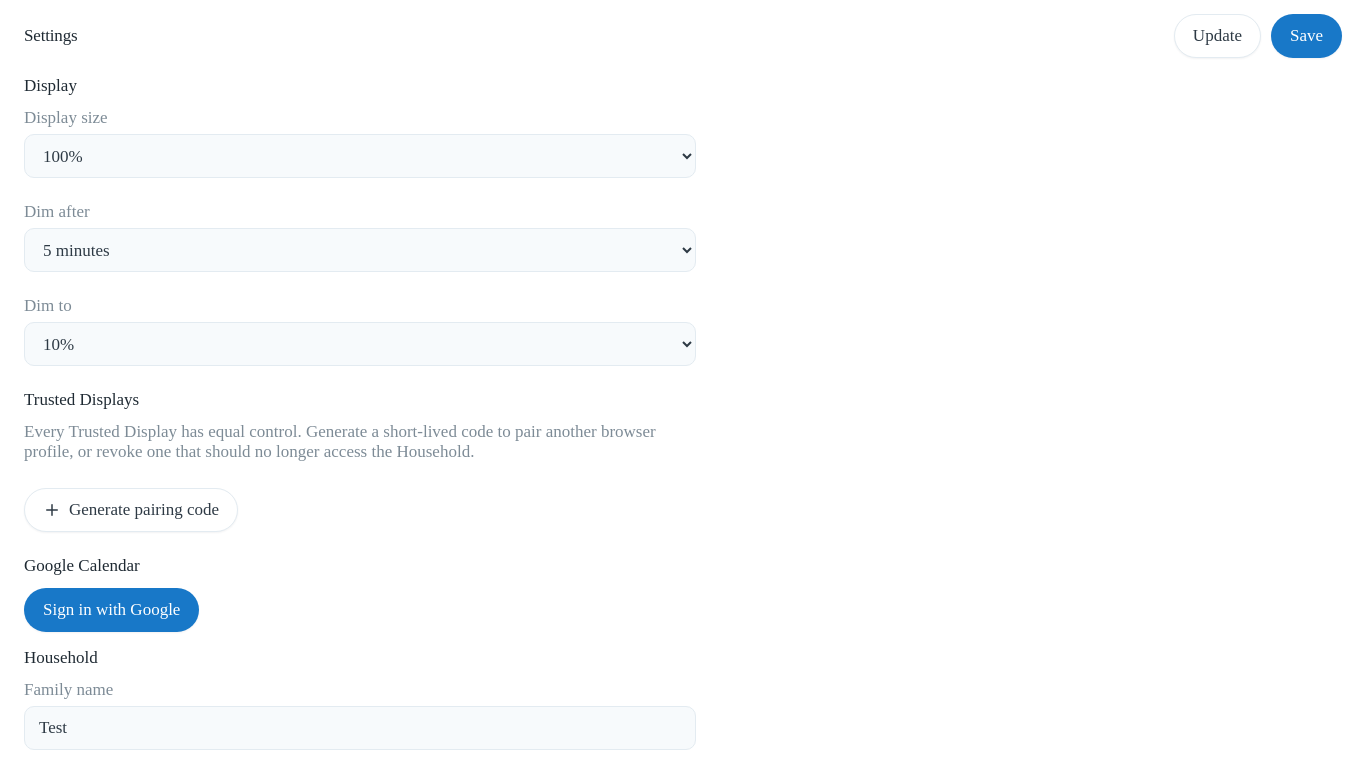
Test: Settings Idle Dim › Display section offers Dim after and Dim to and Save persists them
expect the dropdown labelled "Dim to" shows "10%": met, box [24,322,696,366]
Select "2 minutes" in the dropdown labelled "Dim after" at coordinates (360, 250), box [24,228,696,272]
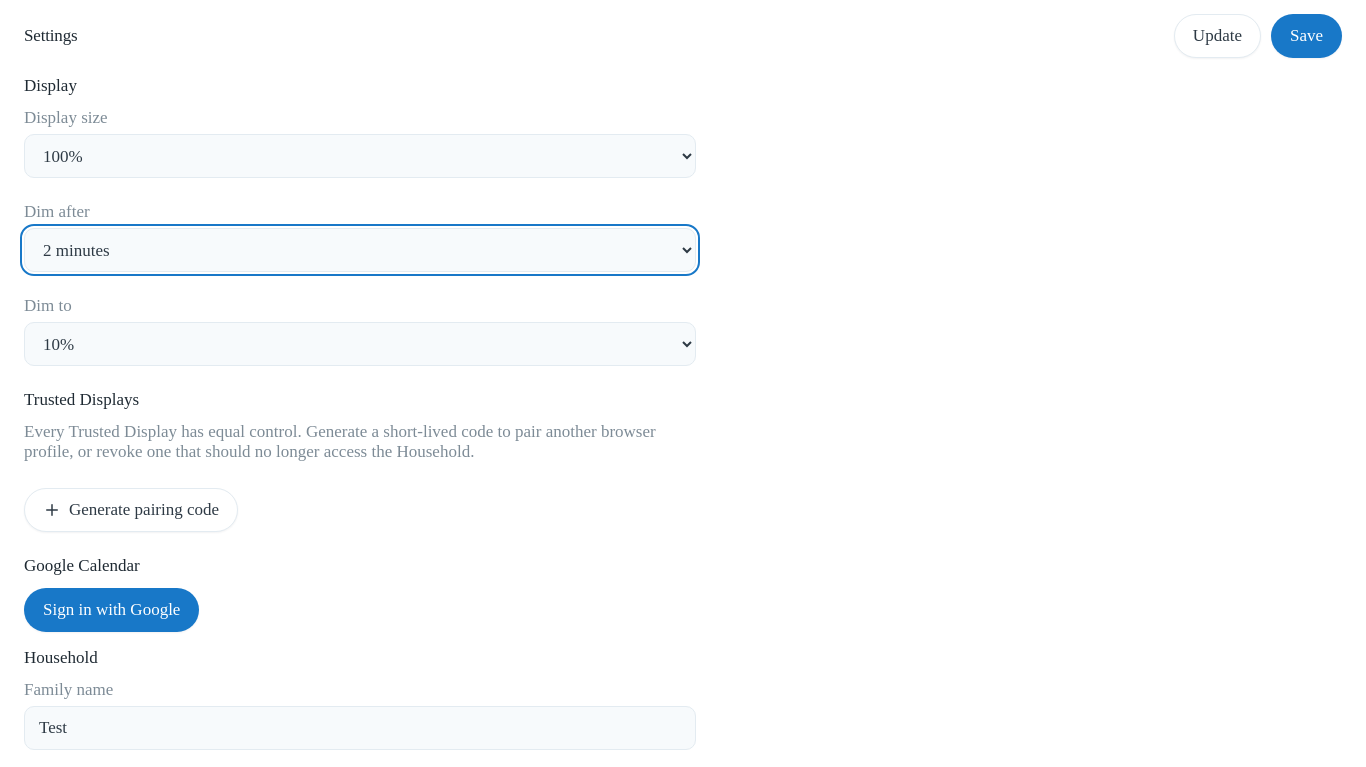
Select "20%" in the dropdown labelled "Dim to" at coordinates (360, 344), box [24,322,696,366]
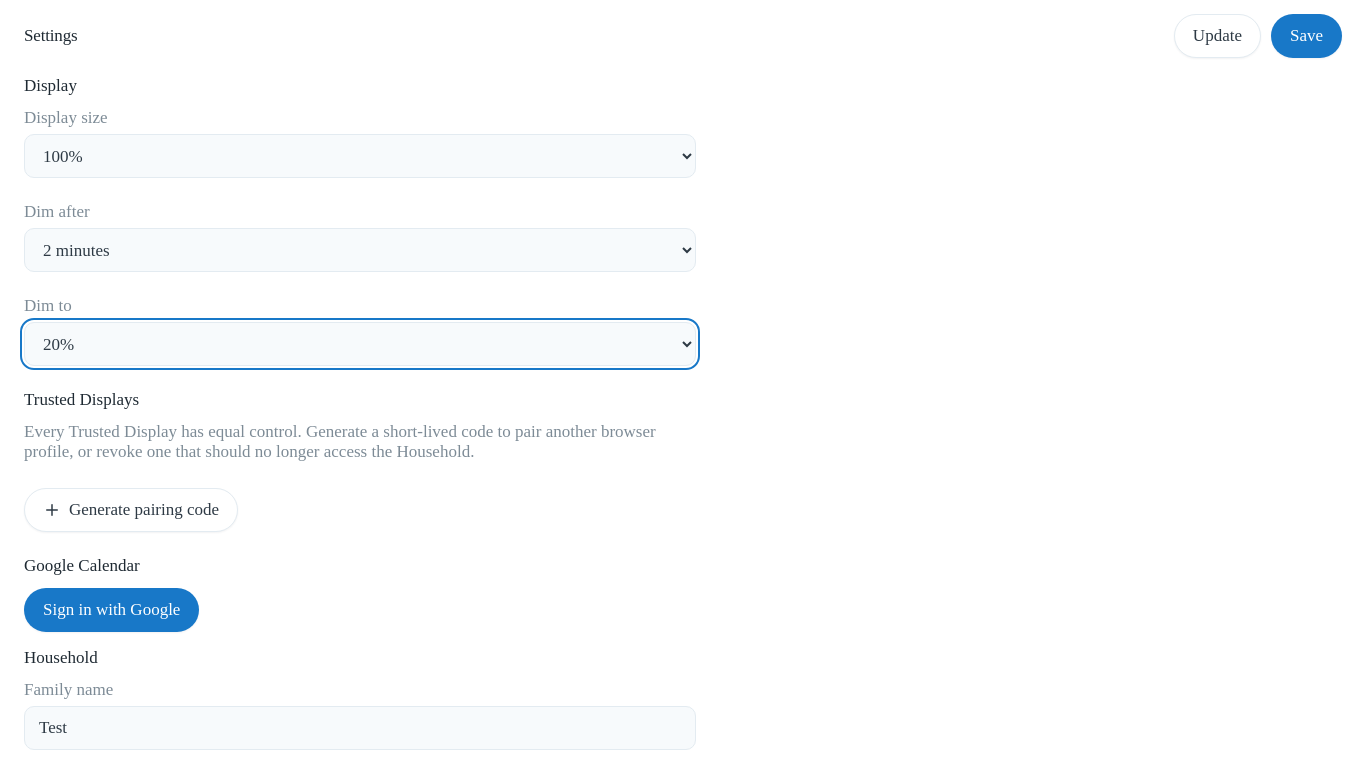
Click the button "Save".
click(1306, 36)  # box [1271,14,1342,58]
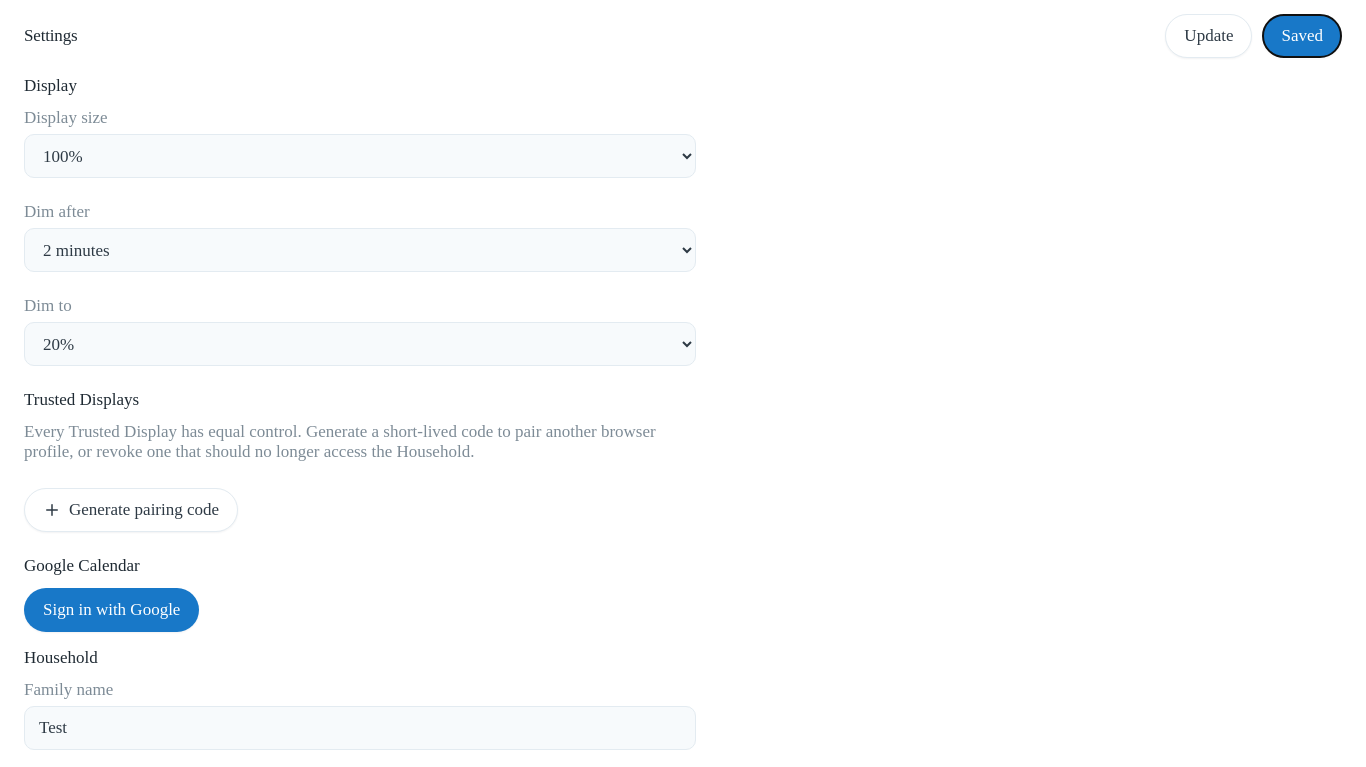
expect the button "Saved" is shown: met, box [1262,14,1342,58]
